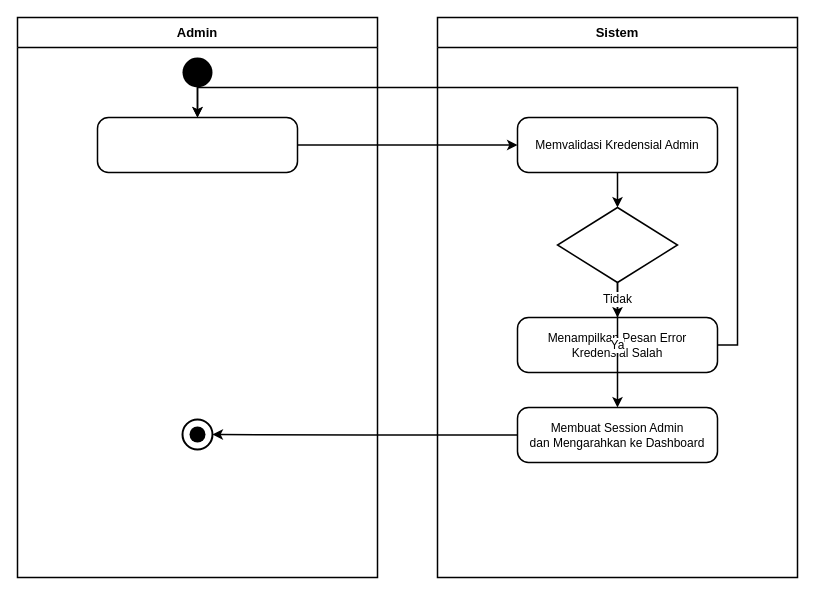
Image size: 816x596. Some labels were removed from this diagram. Each missing label, with the centre of its shape:
"Kredensial Valid?" belongs at point 617,244.
"Mengakses Halaman Login Admin dan Mengisi Email & Password" belongs at point 197,144.
